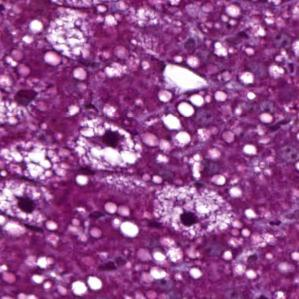ballooning: (152, 182, 237, 245), (74, 117, 142, 174), (4, 172, 61, 234)
